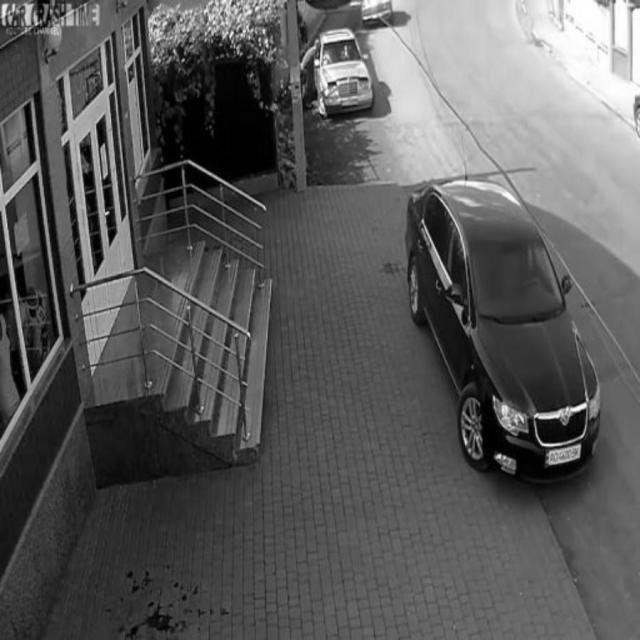vehicle: (405, 189, 605, 503), (318, 28, 373, 121)
